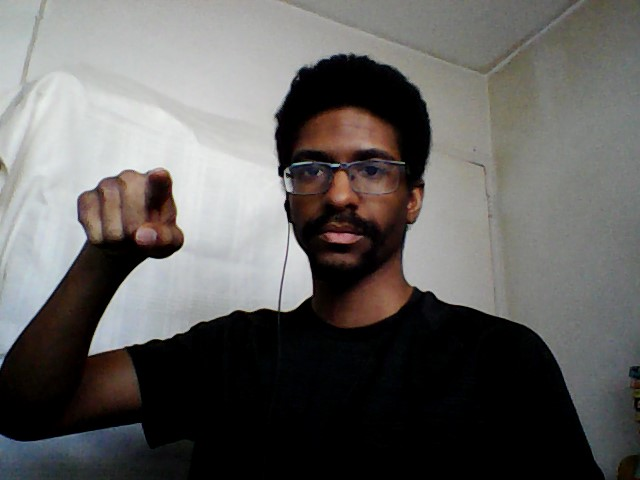z: (73, 164, 190, 262)
